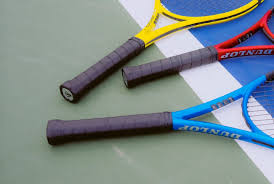tennis racket: (57, 1, 267, 104), (45, 67, 274, 150), (117, 4, 274, 89)
